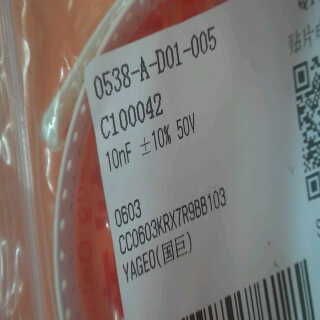10nF: (97, 140, 138, 173)
